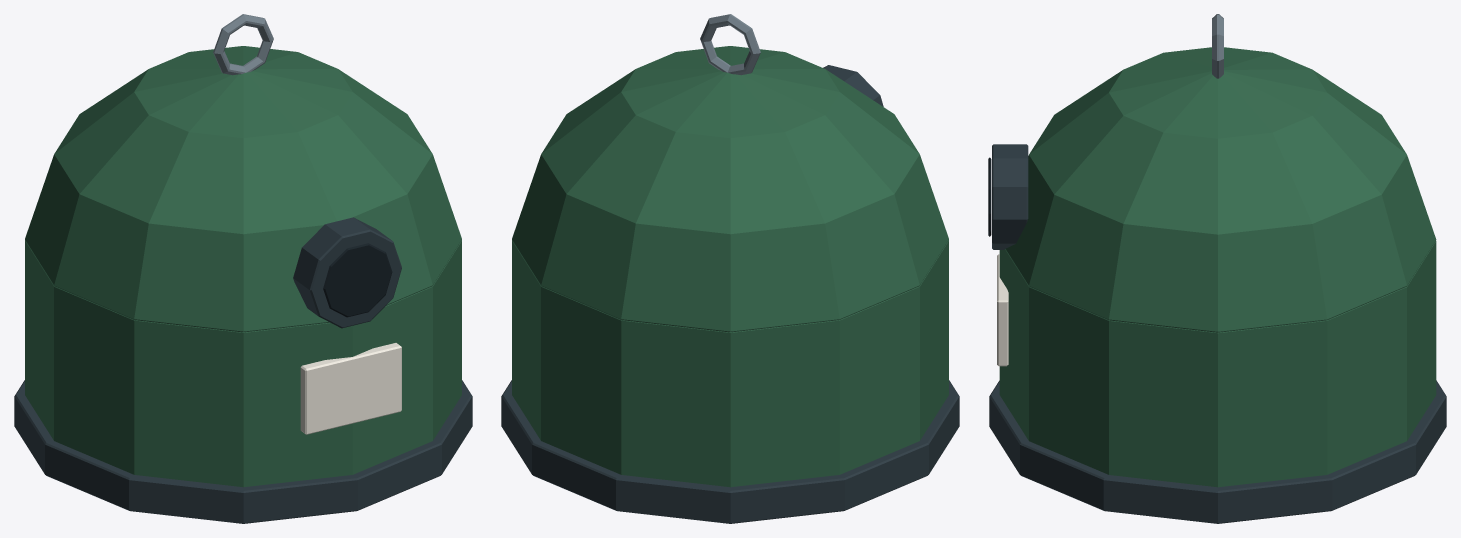
File: b04_igloo_glass_bottle_recycling_bank.glb
3 views of the same model, side by side, from view 1: azimuth 30°, elevation 25°; view 2: azimuth 150°, elevation 25°; view 3: azimuth 270°, elevation 25° (orthographic).
Visible parts, largest first — view 1: b04_igloo_glass_bottle_recycling_bank; view 2: b04_igloo_glass_bottle_recycling_bank; view 3: b04_igloo_glass_bottle_recycling_bank.
Part boxes in pixels (box(x1,y1,x2,y2)): b04_igloo_glass_bottle_recycling_bank: box(14, 14, 472, 523); b04_igloo_glass_bottle_recycling_bank: box(501, 14, 959, 523); b04_igloo_glass_bottle_recycling_bank: box(988, 14, 1446, 523).
Bounding box in the file's own units: 1.76 × 1.75 × 1.76.
